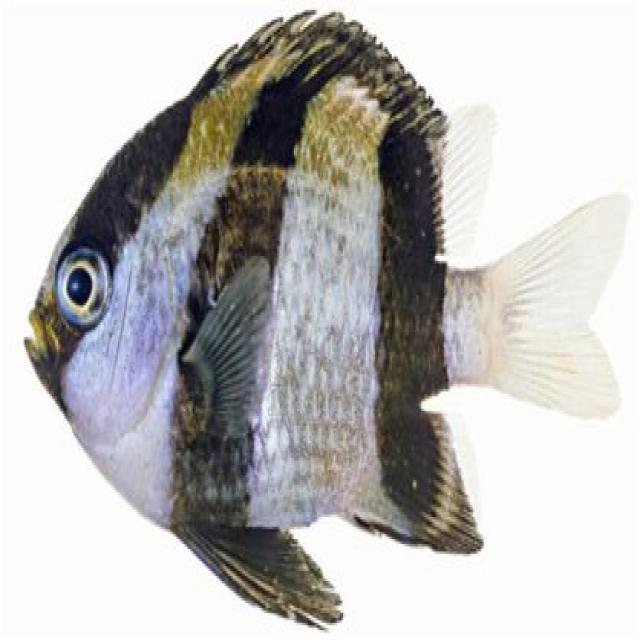Three_striped DasmselFish: (29, 7, 622, 622)
